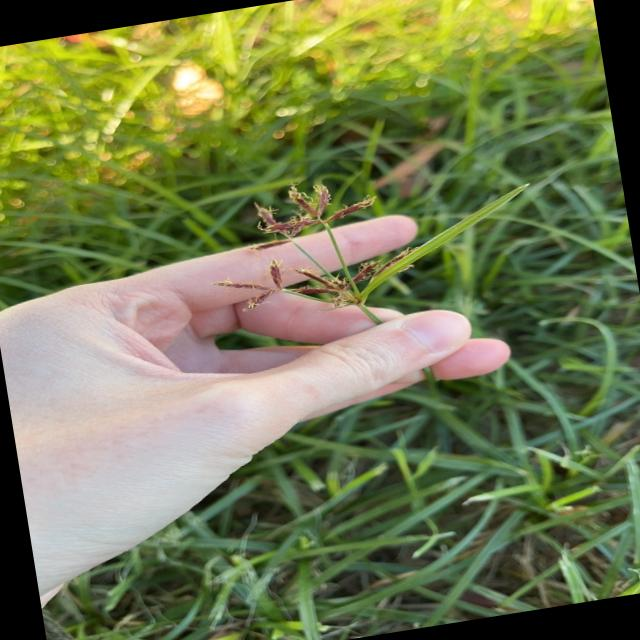cyperus: (188, 147, 494, 355)
